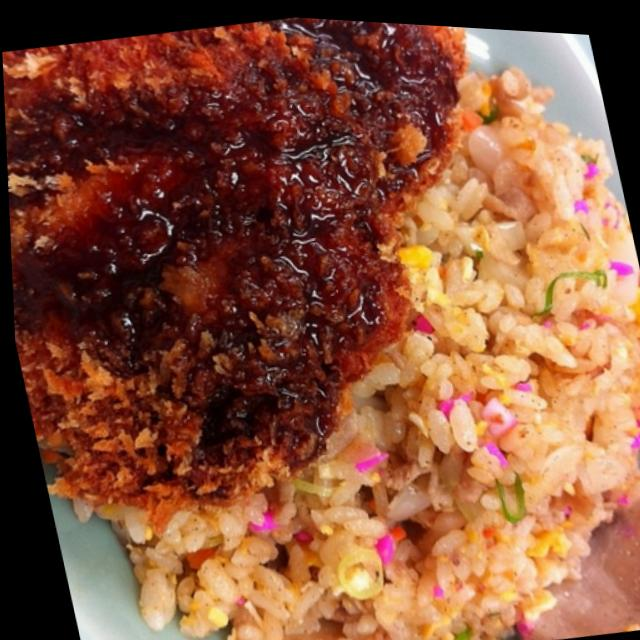鸡肉料理 含炸鸡: (0, 0, 611, 582)
